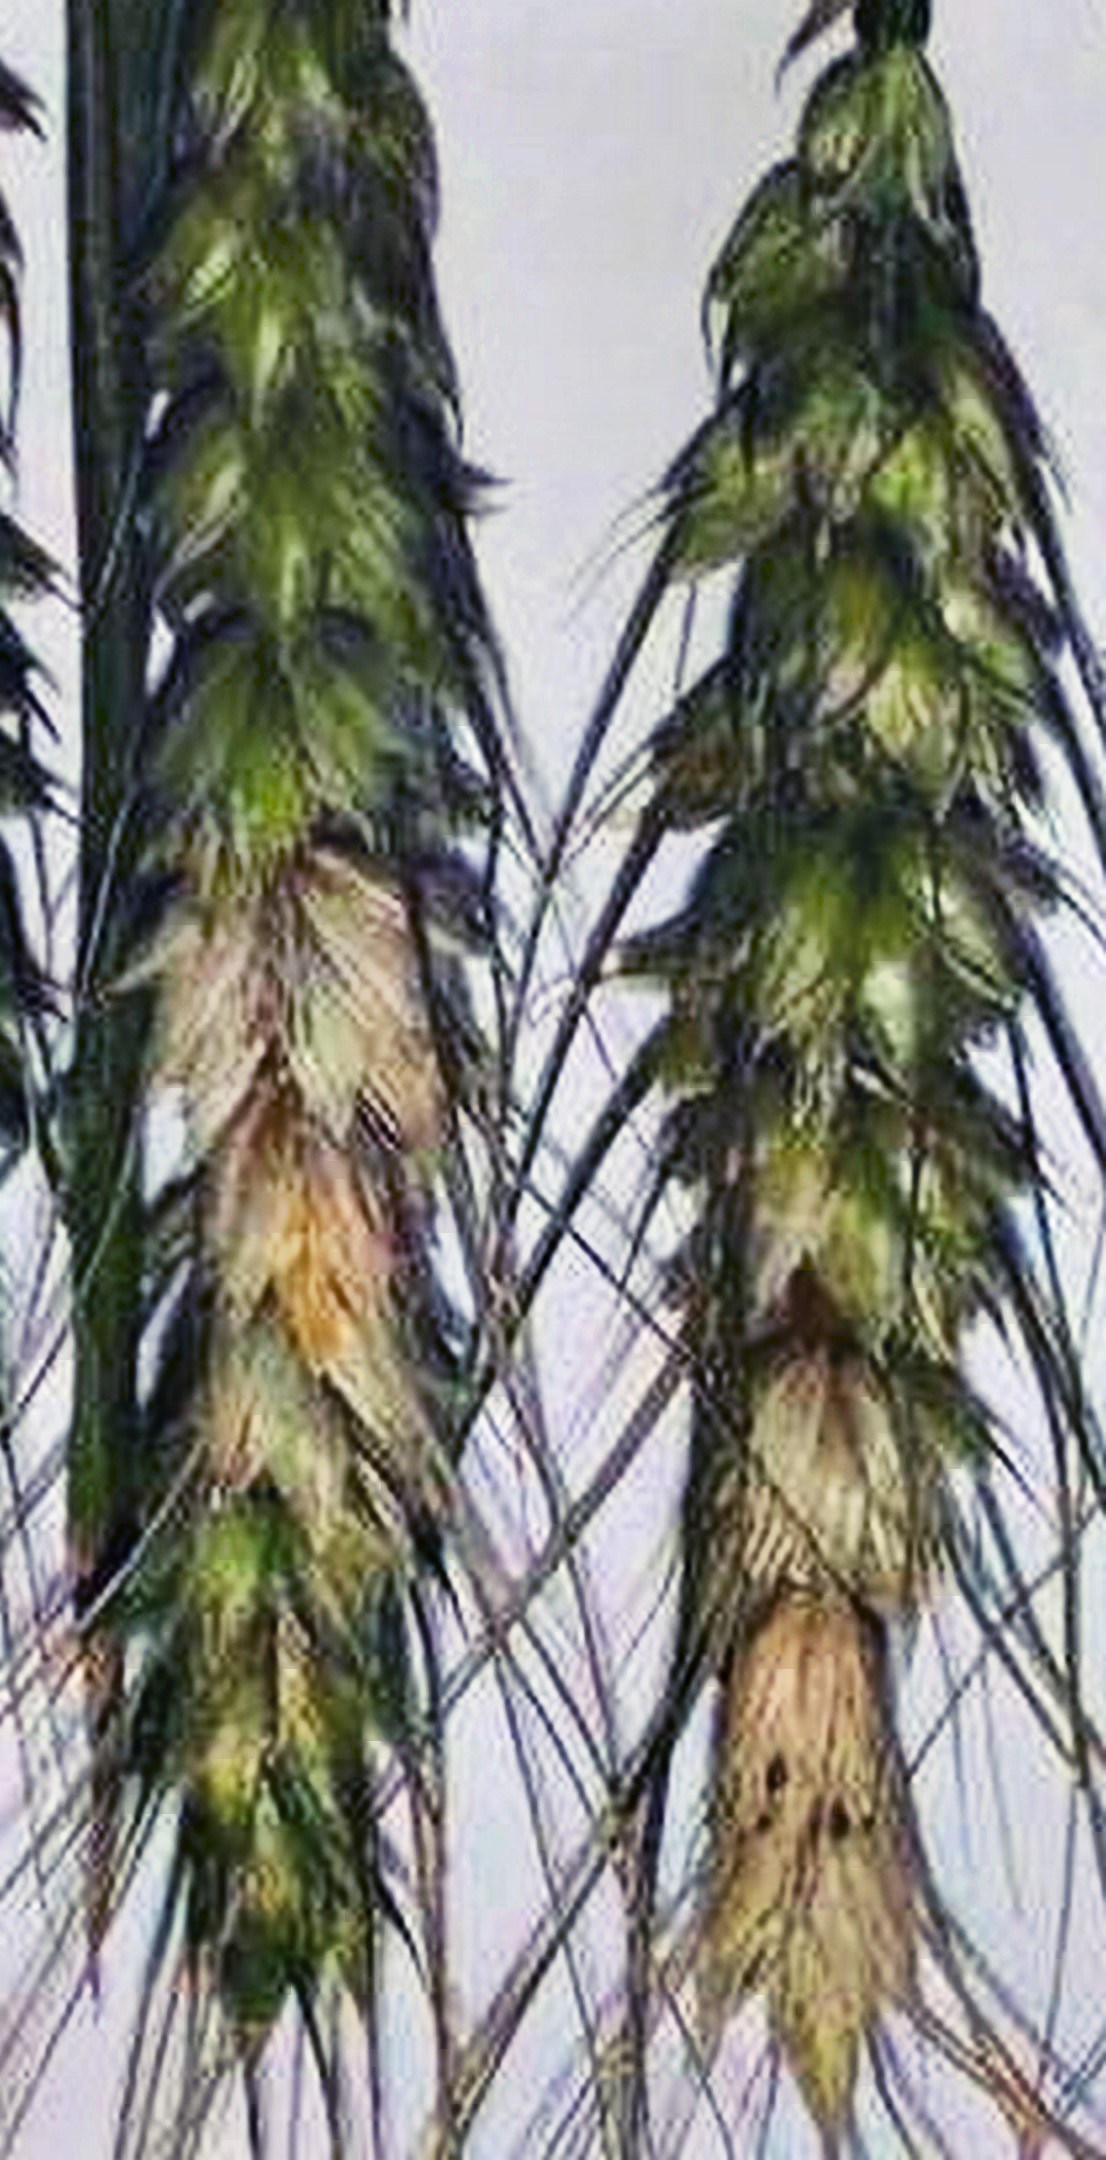Wheat scab: (554, 56, 1090, 2019), (117, 14, 512, 2054)
